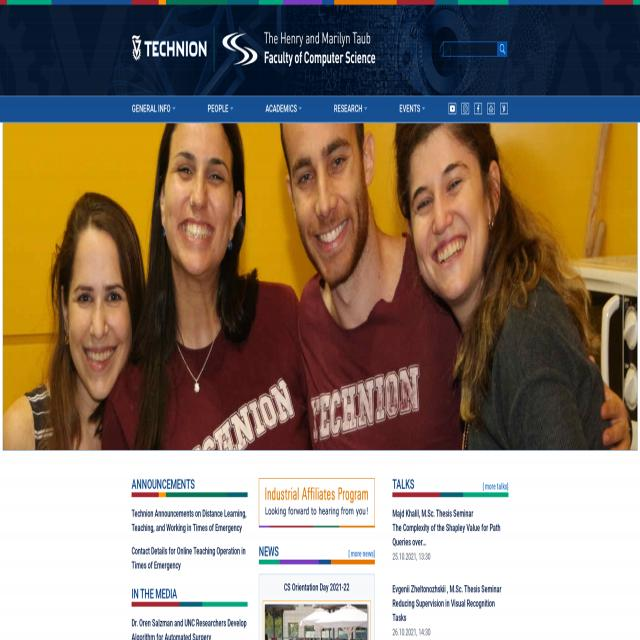button: (221, 27, 376, 72), (259, 478, 375, 527), (264, 599, 370, 640), (132, 27, 207, 72), (131, 96, 179, 121), (265, 96, 305, 121), (333, 96, 371, 121), (207, 96, 237, 121), (399, 96, 429, 121), (498, 42, 507, 58), (500, 103, 508, 115), (461, 103, 469, 115), (474, 103, 482, 115), (487, 103, 495, 115), (449, 103, 456, 115)
field: (443, 41, 498, 57)
